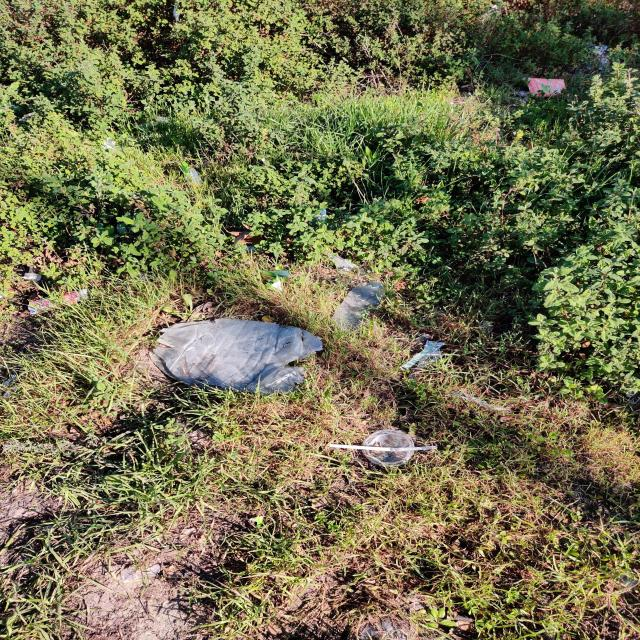litter: (147, 319, 331, 397), (323, 438, 443, 457), (361, 430, 415, 467), (528, 72, 572, 97)
